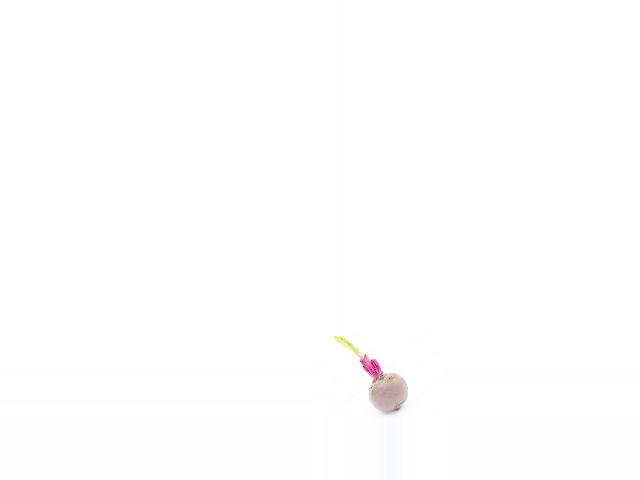beet: (335, 336, 408, 411)
